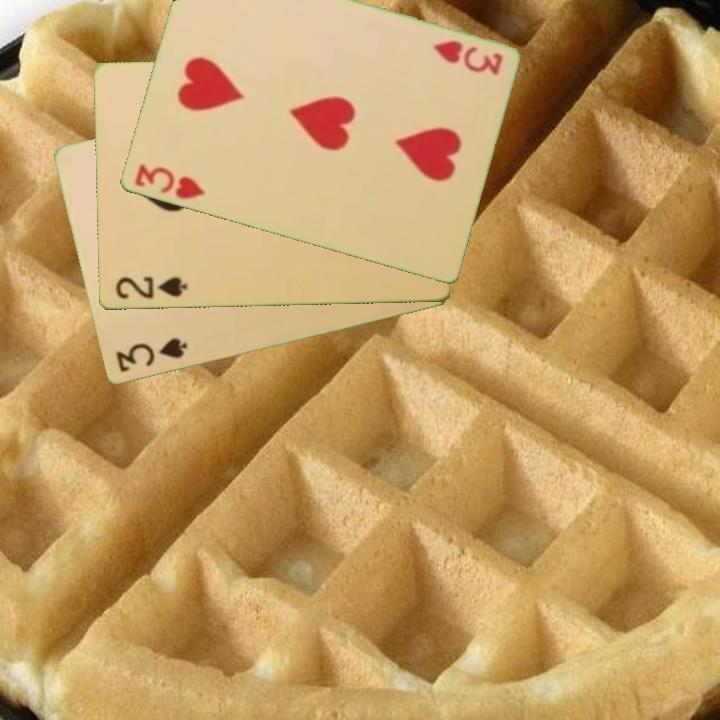2s: (112, 273, 190, 302)
3h: (428, 36, 505, 79), (130, 161, 208, 203)
3s: (112, 334, 190, 376)
